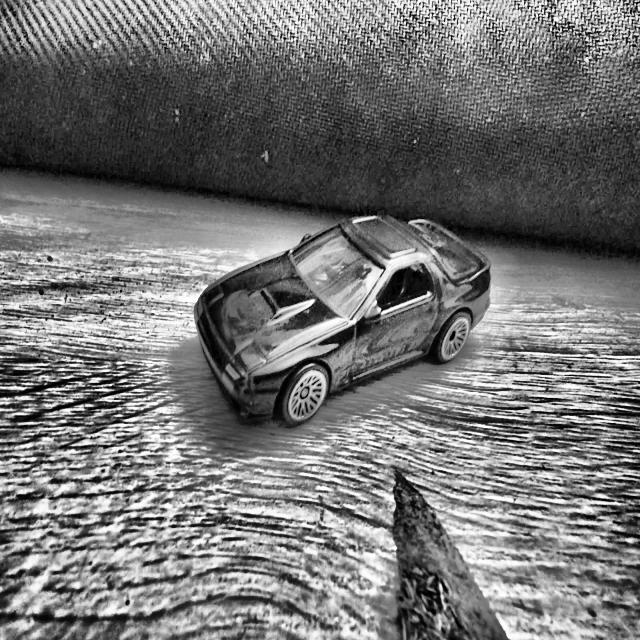car: (193, 212, 492, 428)
